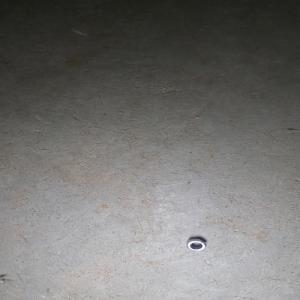Nut: (187, 238, 208, 252)
